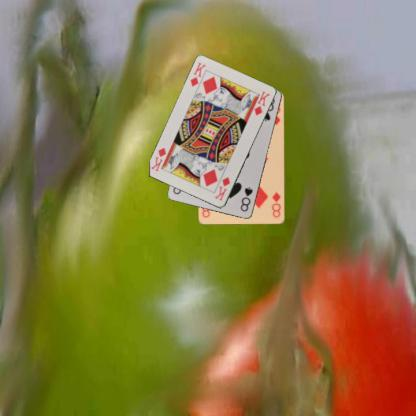8d: (269, 189, 282, 219)
8s: (238, 185, 254, 213)
Kd: (188, 59, 207, 88), (212, 175, 232, 202)
